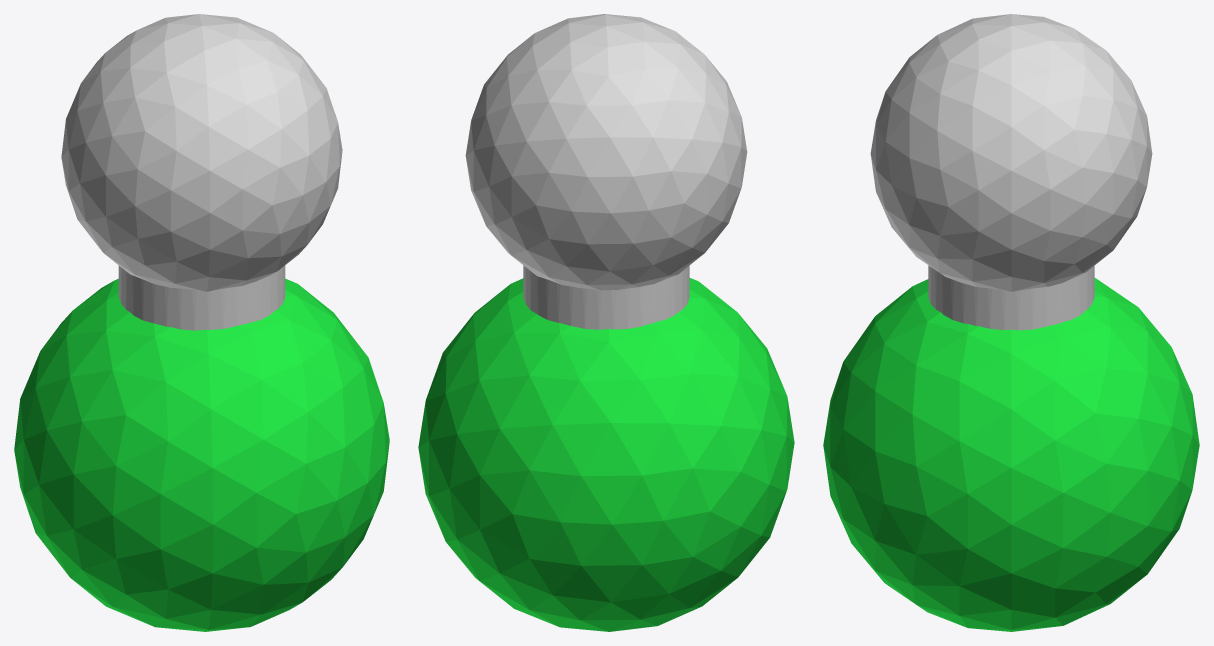
3 renders of one model, left to right at view 1: azimuth 30°, elevation 25°; view 2: azimuth 150°, elevation 25°; view 3: azimuth 270°, elevation 25°, orthographic.
Visible parts, largest first — view 1: Shape_IndexedFaceSet, Shape_IndexedFaceSet.001, Shape_IndexedFaceSet.004; view 2: Shape_IndexedFaceSet, Shape_IndexedFaceSet.001, Shape_IndexedFaceSet.004; view 3: Shape_IndexedFaceSet, Shape_IndexedFaceSet.001, Shape_IndexedFaceSet.004.
Boxes of the visible parts, <box> form: Shape_IndexedFaceSet: <box>14,278,389,631</box>; Shape_IndexedFaceSet.001: <box>61,14,342,291</box>; Shape_IndexedFaceSet.004: <box>118,265,285,330</box>; Shape_IndexedFaceSet: <box>418,278,794,631</box>; Shape_IndexedFaceSet.001: <box>465,14,747,290</box>; Shape_IndexedFaceSet.004: <box>523,265,689,329</box>; Shape_IndexedFaceSet: <box>823,278,1199,631</box>; Shape_IndexedFaceSet.001: <box>870,14,1152,291</box>; Shape_IndexedFaceSet.004: <box>928,265,1094,330</box>.
Bounding box in the file's own units: 0.0915 × 0.1581 × 0.0915.
